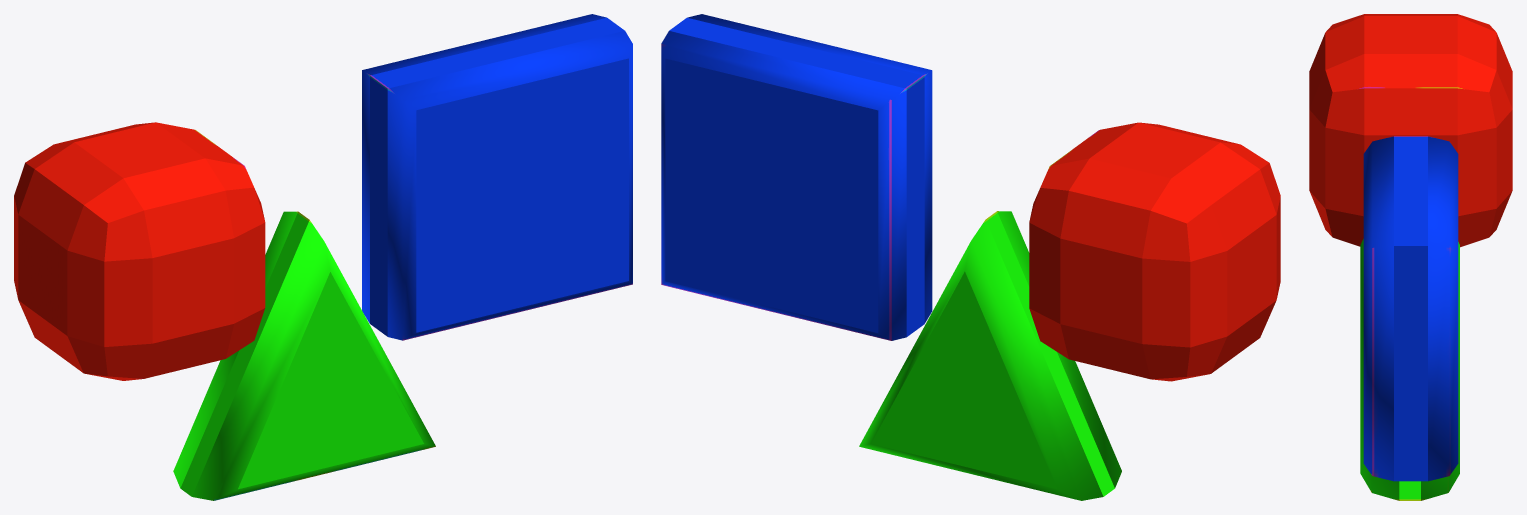
Rendered from 3shapes.obj.
3 views of the same model, side by side, from view 1: azimuth 30°, elevation 25°; view 2: azimuth 150°, elevation 25°; view 3: azimuth 270°, elevation 25° (orthographic). The views are drawn at different scales.
Parts seen in each view (by area): view 1: Rectangle, Squircle, Triangle; view 2: Rectangle, Squircle, Triangle; view 3: Squircle, Rectangle, Triangle.
Part boxes in pixels (x1=…): Rectangle: x1=362, y1=14, x2=632, y2=340; Squircle: x1=14, y1=122, x2=265, y2=380; Triangle: x1=173, y1=211, x2=435, y2=500; Rectangle: x1=661, y1=14, x2=932, y2=340; Squircle: x1=1029, y1=122, x2=1280, y2=381; Triangle: x1=859, y1=211, x2=1121, y2=500; Squircle: x1=1309, y1=14, x2=1512, y2=247; Rectangle: x1=1363, y1=136, x2=1458, y2=481; Triangle: x1=1360, y1=239, x2=1459, y2=500.
Bounding box in the file's own units: 4.83 × 2.93 × 1.57.
1 material, 1 textured.
